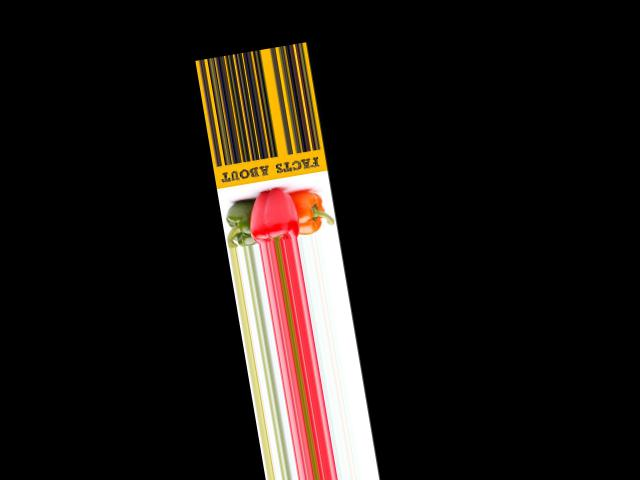bell_pepper: (219, 192, 256, 248)
